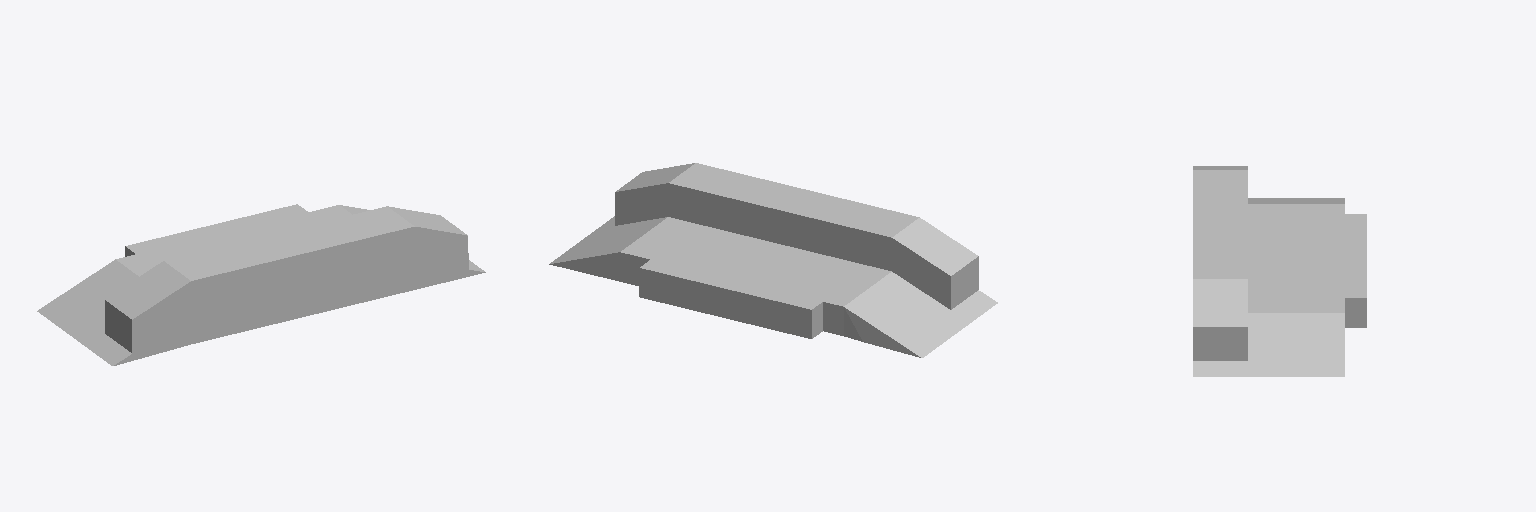
The model's file is Rampa.obj.
3 renders of one model, left to right at view 1: azimuth 30°, elevation 25°; view 2: azimuth 150°, elevation 25°; view 3: azimuth 270°, elevation 25°, orthographic.
Visible parts, largest first — view 1: Rampa1:Mesh; view 2: Rampa1:Mesh; view 3: Rampa1:Mesh.
Part boxes in pixels (left/top/right/bottom): Rampa1:Mesh: left=37, top=204, right=485, bottom=365; Rampa1:Mesh: left=549, top=163, right=997, bottom=357; Rampa1:Mesh: left=1193, top=166, right=1366, bottom=376.
Bounding box in the file's own units: 10.22 × 1.73 × 4.12.